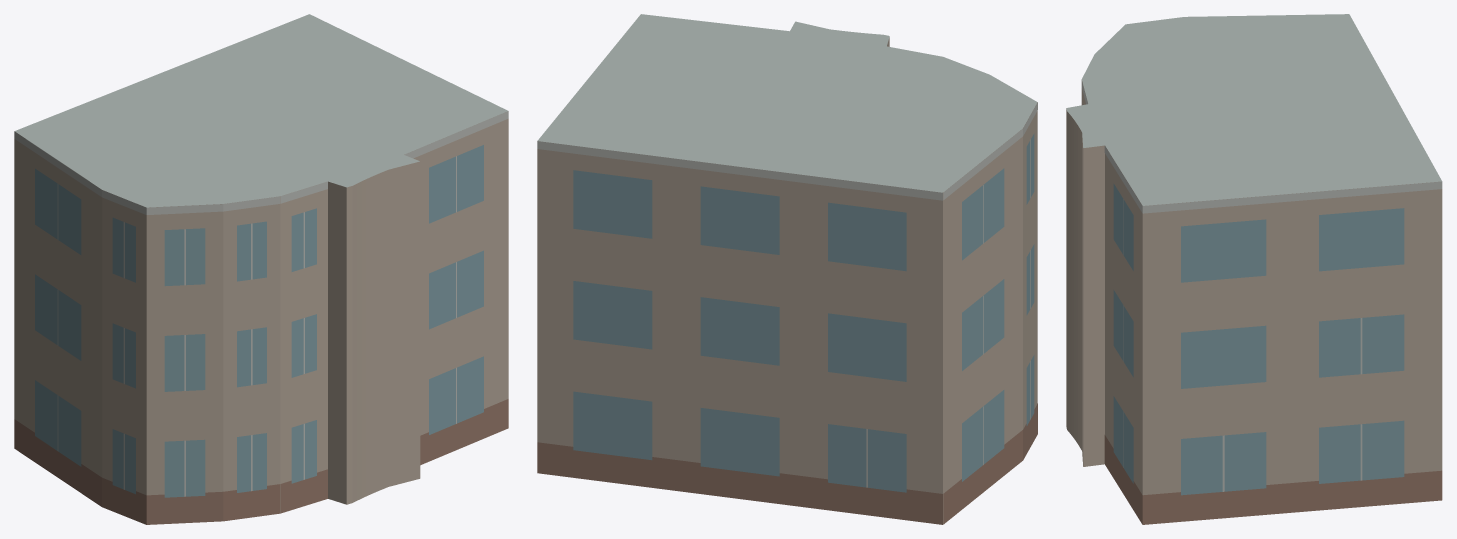
File: survey-upis-33009222.glb
The picture shows the model from 3 angles, left to right: view 1: azimuth 30°, elevation 25°; view 2: azimuth 150°, elevation 25°; view 3: azimuth 270°, elevation 25°; orthographic projection. The views are drawn at different scales.
Visible parts, largest first — view 1: survey-upis-33009222.tmp; view 2: survey-upis-33009222.tmp; view 3: survey-upis-33009222.tmp.
Boxes of the visible parts, box(x1,y1,x2,y2) form: survey-upis-33009222.tmp: box(14, 14, 508, 524); survey-upis-33009222.tmp: box(537, 14, 1037, 524); survey-upis-33009222.tmp: box(1066, 14, 1442, 524).
Bounding box in the file's own units: 13.18 × 10.2 × 10.9.
